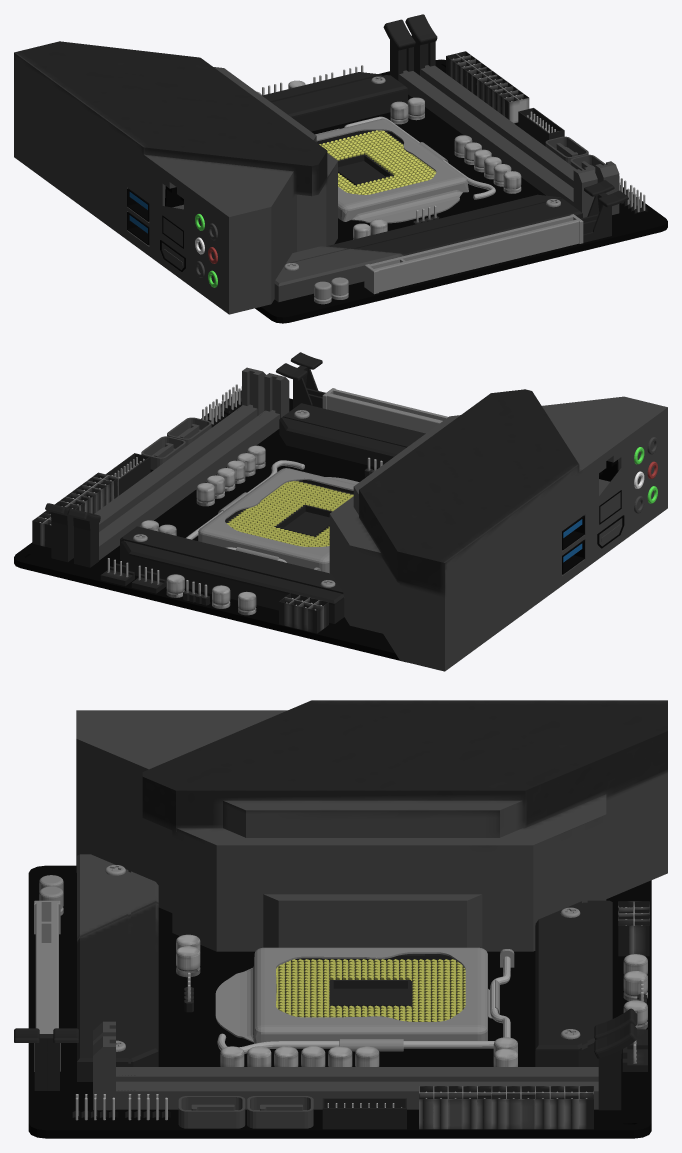
Rendered from ITX.fbx.
3 renders of one model, top to bottom at view 1: azimuth 30°, elevation 25°; view 2: azimuth 150°, elevation 25°; view 3: azimuth 270°, elevation 25°, orthographic. The views are drawn at different scales.
Parts seen in each view (by area): view 1: ITX_FINAL; view 2: ITX_FINAL; view 3: ITX_FINAL.
Boxes of the visible parts, box(x1,y1,x2,y2) form: ITX_FINAL: box(14, 14, 667, 323); ITX_FINAL: box(14, 352, 667, 671); ITX_FINAL: box(14, 700, 667, 1138).
Bounding box in the file's own units: 291 × 71.85 × 280.
